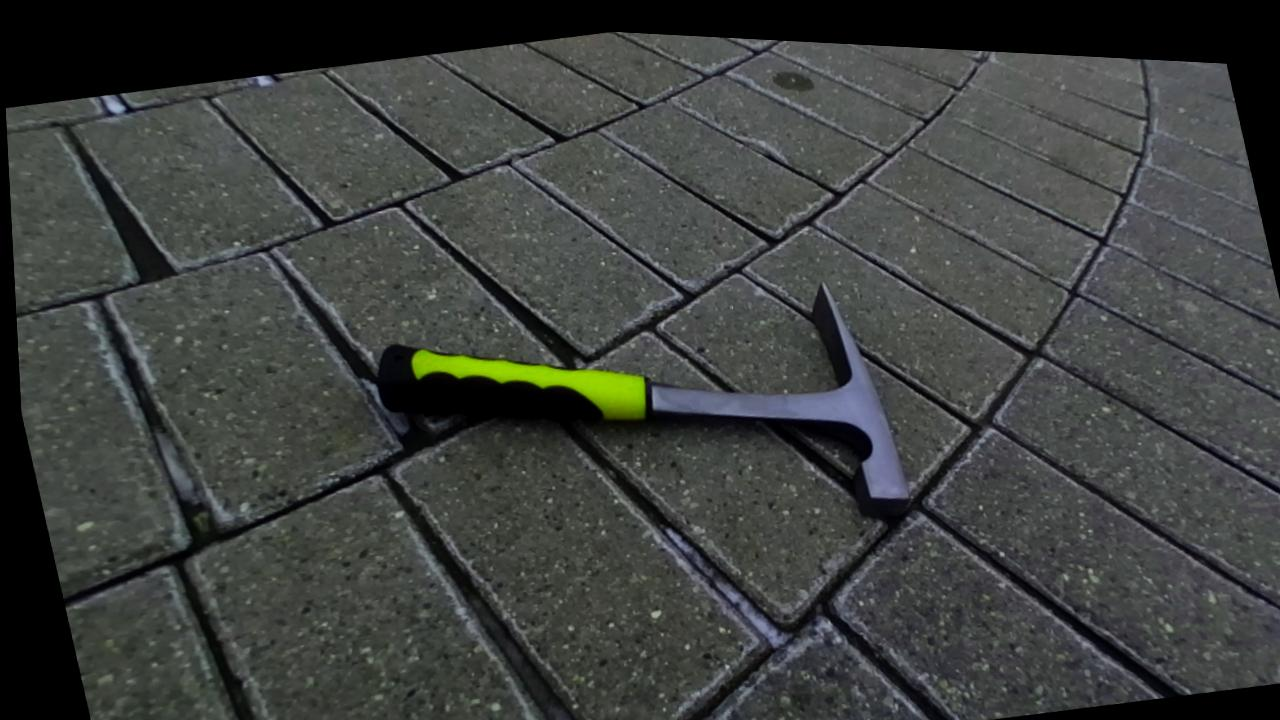pick: (376, 284, 909, 514)
